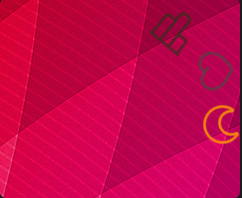heart: (196, 49, 238, 92)
moon: (200, 105, 240, 145)
threebuilding: (145, 10, 193, 57)
